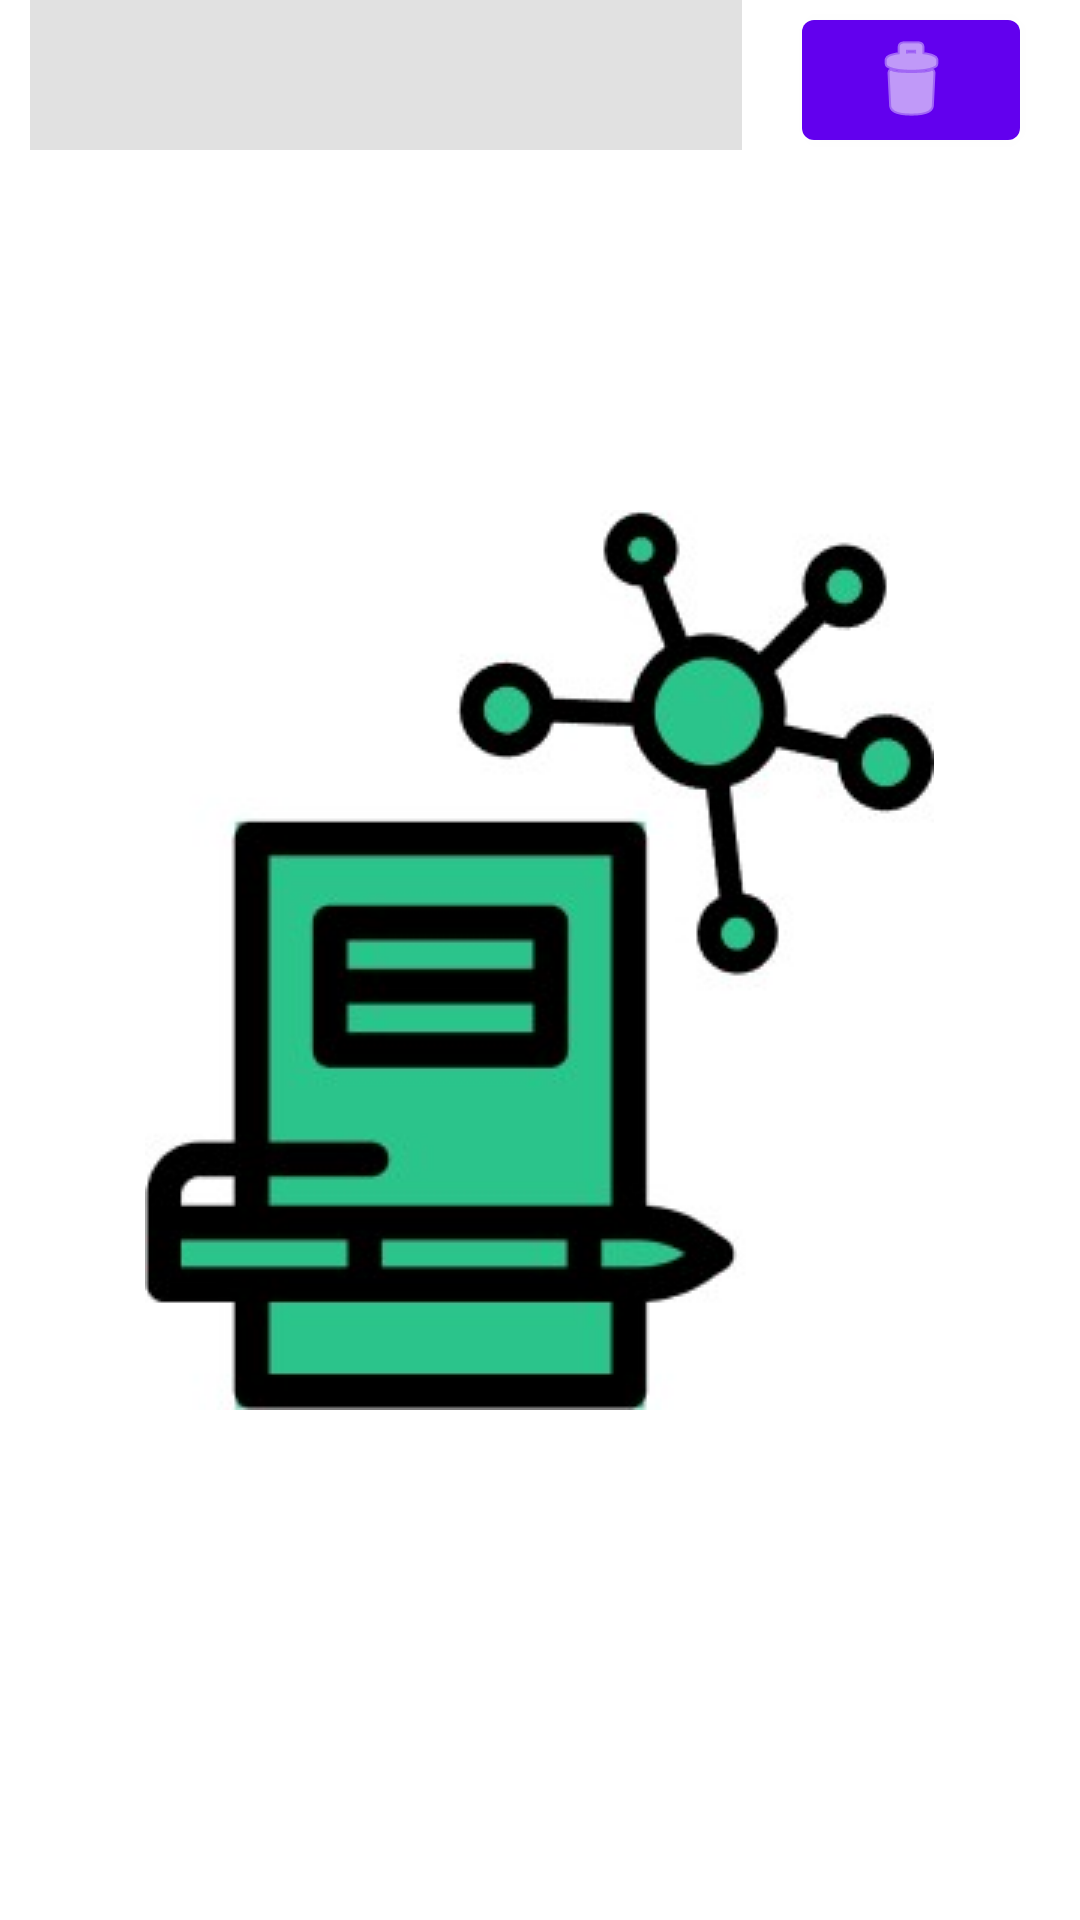

Icons on this 1080px×1920px Android screen, each with its box as (x1, y1, x2, y2):
delete: (802, 20, 1020, 140)
